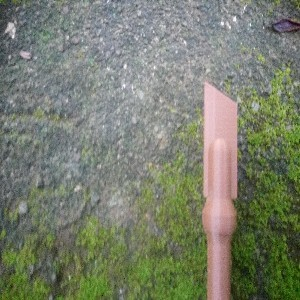cutter: (200, 81, 239, 300)
